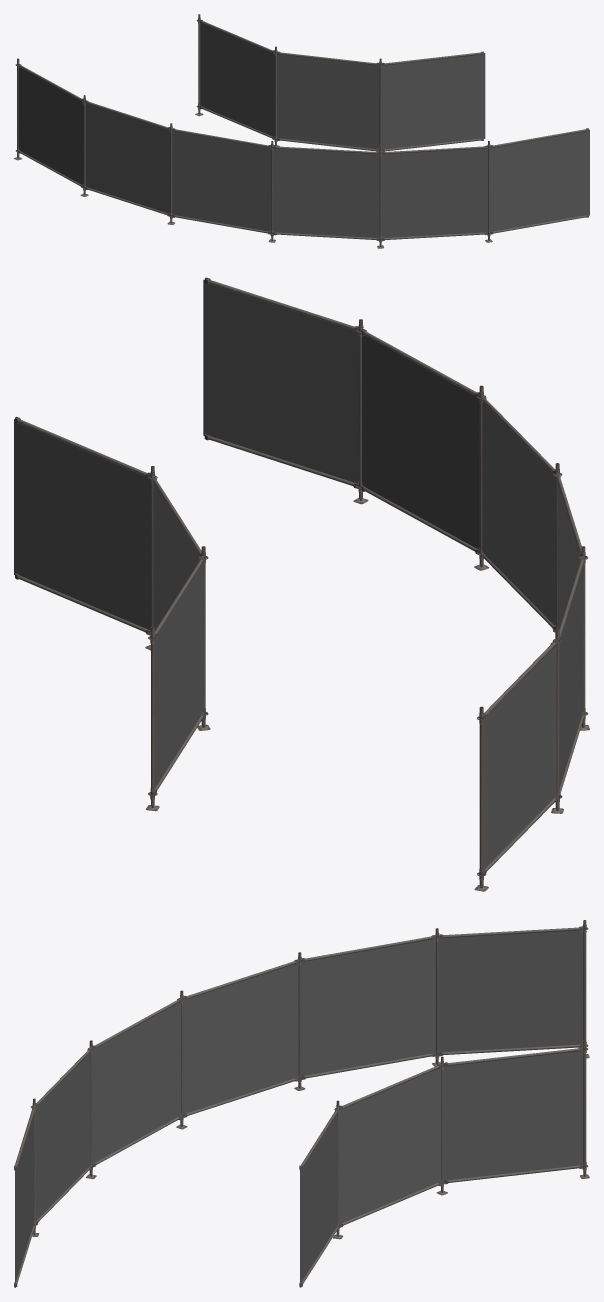
The model's file is scaffold_foot_turnl_192x576.fbx.
3 views of the same model, one above another, from view 1: azimuth 30°, elevation 25°; view 2: azimuth 150°, elevation 25°; view 3: azimuth 270°, elevation 25° (orthographic). The views are drawn at different scales.
Parts seen in each view (by area): view 1: scaffold_foot_turnL_192x576; view 2: scaffold_foot_turnL_192x576; view 3: scaffold_foot_turnL_192x576.
Boxes of the visible parts, left/top/right/bottom form: scaffold_foot_turnL_192x576: left=14, top=14, right=589, bottom=248; scaffold_foot_turnL_192x576: left=14, top=277, right=589, bottom=891; scaffold_foot_turnL_192x576: left=14, top=920, right=589, bottom=1287.
Bounding box in the file's own units: 775 × 202 × 776.
Materials: 3 (2 with a texture image).
